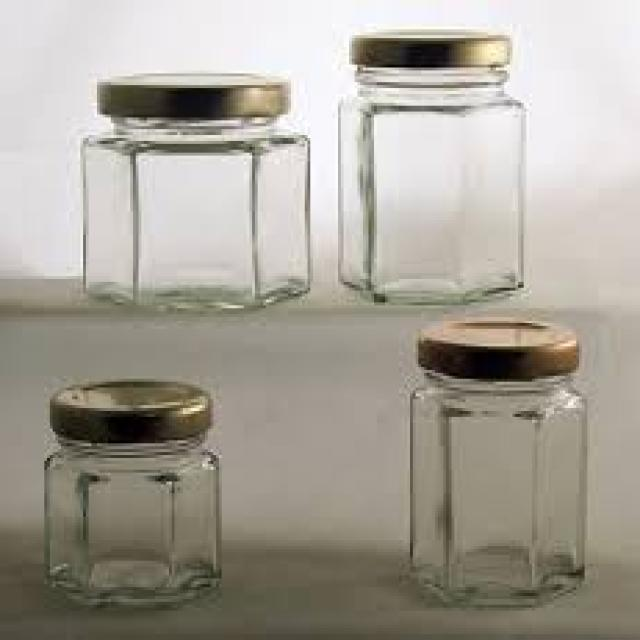glass: (78, 115, 308, 311), (332, 62, 521, 300), (407, 367, 585, 611), (41, 429, 219, 605)
metal: (416, 311, 579, 379), (47, 379, 211, 440), (89, 71, 285, 121), (346, 27, 507, 65)
